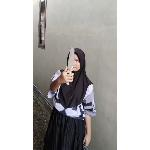Pisau: (62, 43, 80, 87)
